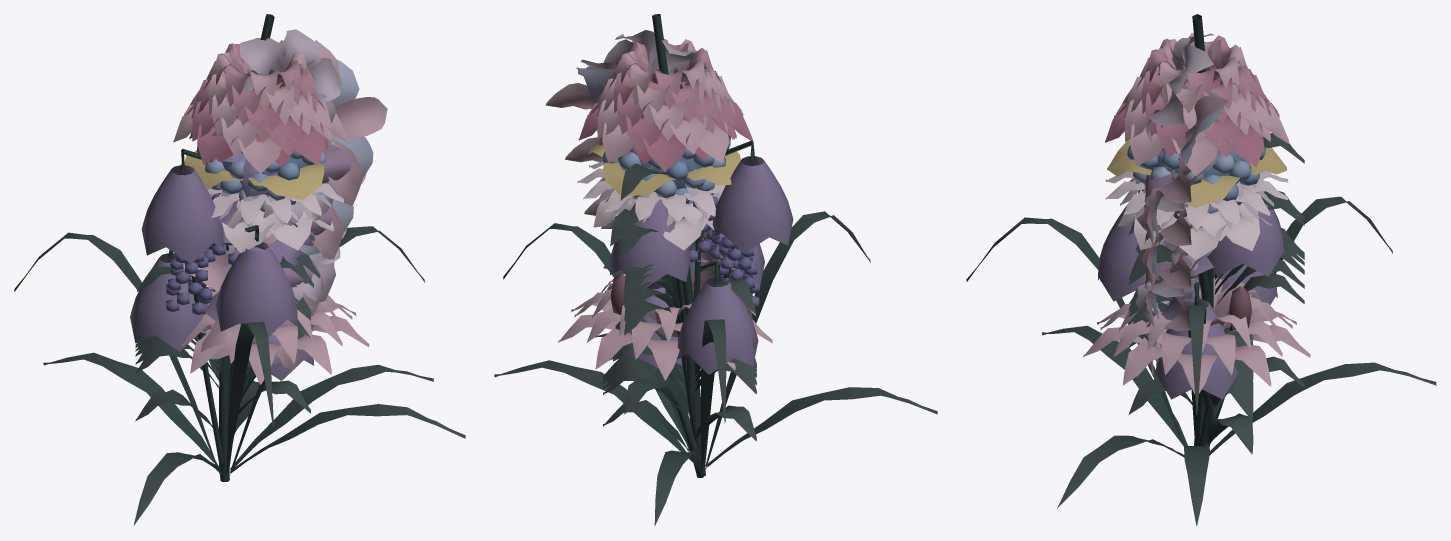
The model's file is meadow-flowers.glb.
3 views of the same model, side by side, from view 1: azimuth 30°, elevation 25°; view 2: azimuth 150°, elevation 25°; view 3: azimuth 270°, elevation 25° (orthographic). The views are drawn at different scales.
Visible parts, largest first — view 1: bellflower, cymbidium, gladiolus, peony, water_lily, lavender, camellia, evening_primrose, phalaenopsis, pompon, daisy, chrysanthemum (+1 smaller); view 2: bellflower, peony, gladiolus, cymbidium, water_lily, camellia, daisy, pompon, evening_primrose, lavender, chrysanthemum, rose (+1 smaller); view 3: peony, cymbidium, water_lily, bellflower, gladiolus, camellia, daisy, pompon, evening_primrose, chrysanthemum, phalaenopsis.
Part boxes in pixels (x1=…): bellflower: x1=130, y1=149, x2=314, y2=480; cymbidium: x1=43, y1=40, x2=465, y2=525; gladiolus: x1=14, y1=14, x2=424, y2=481; peony: x1=135, y1=37, x2=348, y2=481; water_lily: x1=135, y1=286, x2=369, y2=480; lavender: x1=166, y1=182, x2=238, y2=469; camellia: x1=135, y1=199, x2=333, y2=430; evening_primrose: x1=135, y1=150, x2=324, y2=432; phalaenopsis: x1=228, y1=60, x2=373, y2=364; pompon: x1=135, y1=145, x2=326, y2=428; daisy: x1=135, y1=183, x2=343, y2=375; chrysanthemum: x1=135, y1=187, x2=331, y2=431; bellflower: x1=610, y1=140, x2=793, y2=474; peony: x1=578, y1=39, x2=756, y2=420; gladiolus: x1=503, y1=14, x2=870, y2=472; cymbidium: x1=494, y1=59, x2=937, y2=525; water_lily: x1=558, y1=275, x2=772, y2=477; camellia: x1=593, y1=189, x2=756, y2=457; daisy: x1=577, y1=161, x2=756, y2=409; pompon: x1=602, y1=135, x2=756, y2=425; evening_primrose: x1=588, y1=143, x2=756, y2=424; lavender: x1=689, y1=193, x2=759, y2=466; chrysanthemum: x1=596, y1=177, x2=756, y2=433; rose: x1=599, y1=68, x2=756, y2=422; peony: x1=1105, y1=33, x2=1304, y2=401; cymbidium: x1=1042, y1=96, x2=1436, y2=525; water_lily: x1=1083, y1=278, x2=1310, y2=454; bellflower: x1=1098, y1=190, x2=1304, y2=446; gladiolus: x1=966, y1=14, x2=1392, y2=446; camellia: x1=1118, y1=190, x2=1304, y2=421; daisy: x1=1105, y1=171, x2=1304, y2=408; pompon: x1=1127, y1=145, x2=1304, y2=408; evening_primrose: x1=1107, y1=139, x2=1304, y2=405; chrysanthemum: x1=1120, y1=178, x2=1304, y2=414; phalaenopsis: x1=1143, y1=92, x2=1225, y2=363.
Bounding box in the file's own units: 1.25 × 1.46 × 1.3.
